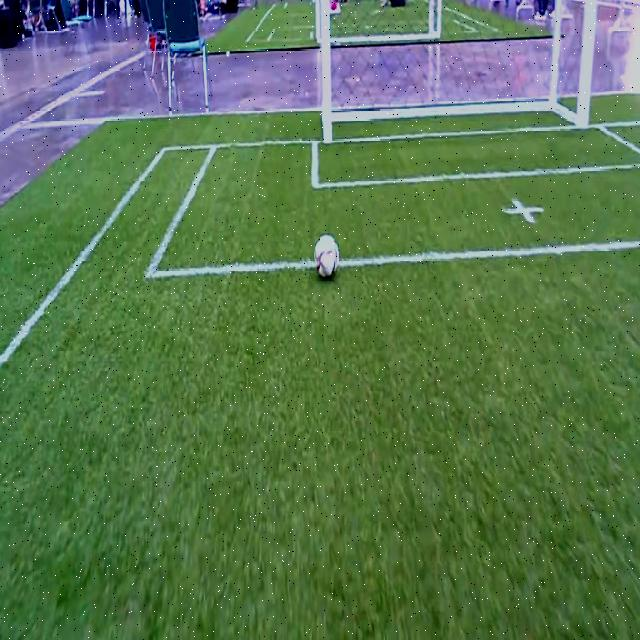ball: (314, 234, 338, 276)
